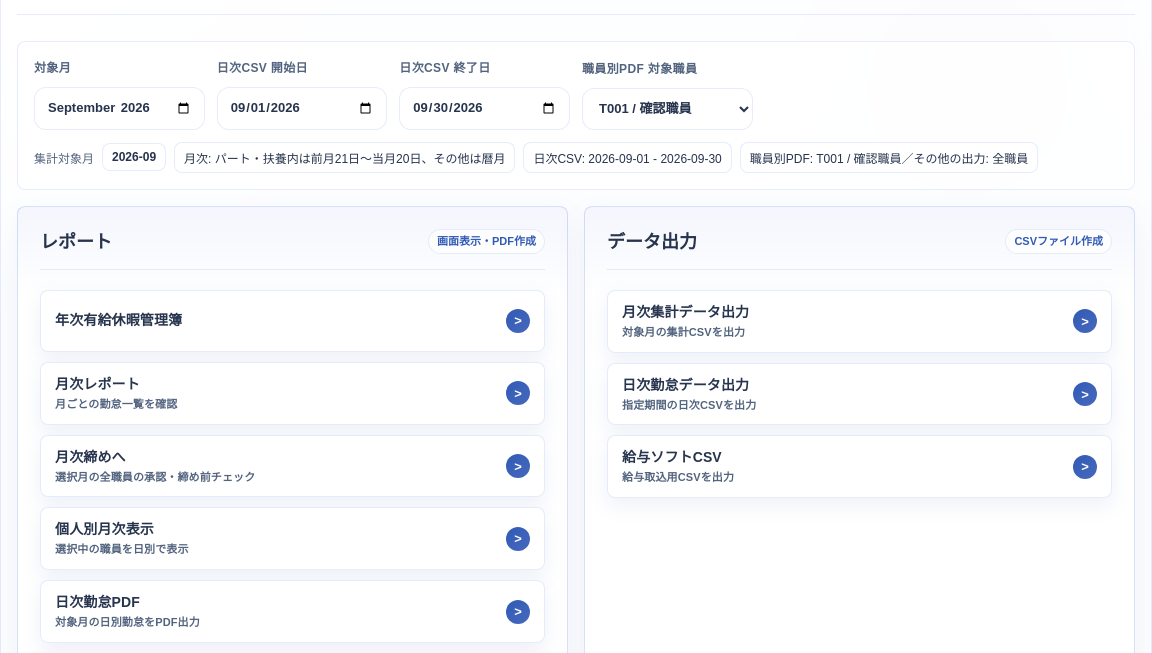
Scenario: report scope and month › shows the official citizens' holiday and preserves both leave units
Click the button "個人別月次表示 選択中の職員を日別で表示" at [104, 529], box [40, 507, 545, 570]
(page scrolled)
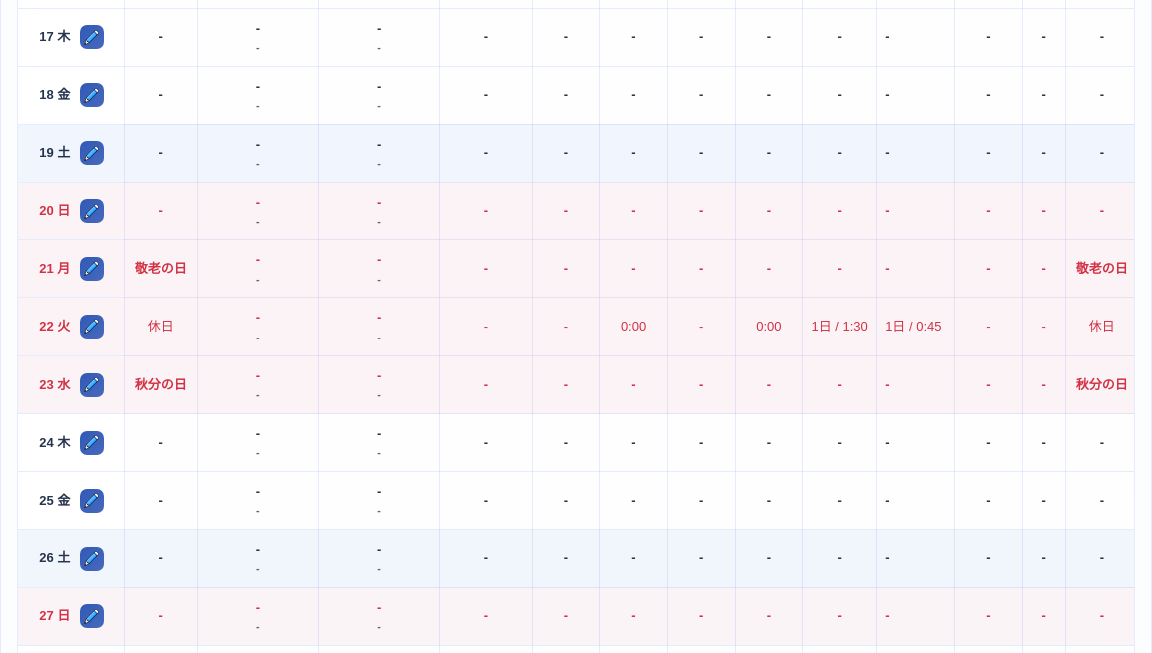
Expected: the text "1日 / 1:30" is shown, [803, 298, 877, 356]
Expected: the text "1日 / 0:45" is shown, [877, 298, 955, 356]
Expected: the row "22 火 休日 - - - - - - 0:00 - 0:00 1日 / 1:30 1日 / 0:45 - - 休日" is shown, [18, 298, 1135, 356]
